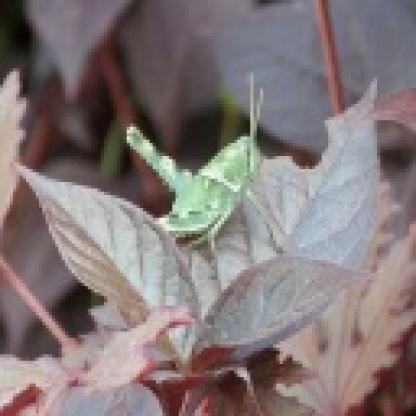grasshopper: (120, 82, 298, 267)
